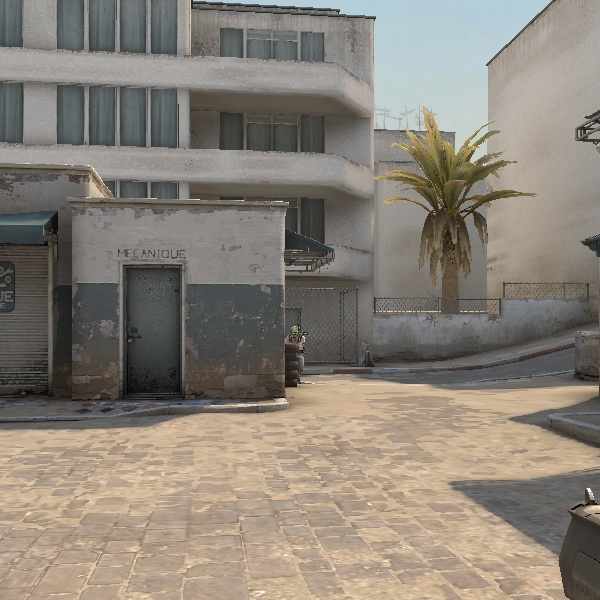t_body: (285, 323, 305, 385)
t_head: (290, 326, 300, 339)
